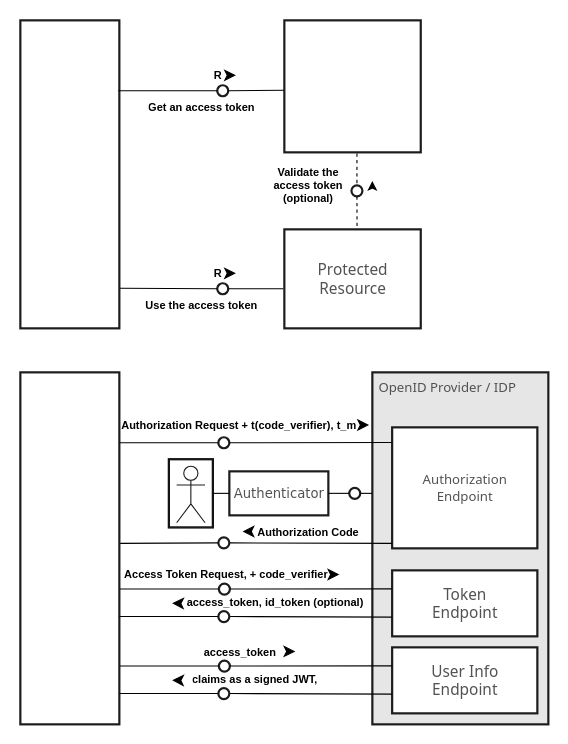
This 568x744 diagram has some shape labels left out. Each missing label, with the box of its shape:
Authorization Server: (283, 19, 421, 153)
Client: (19, 19, 120, 329)
Relying Party (Client): (19, 371, 120, 725)
